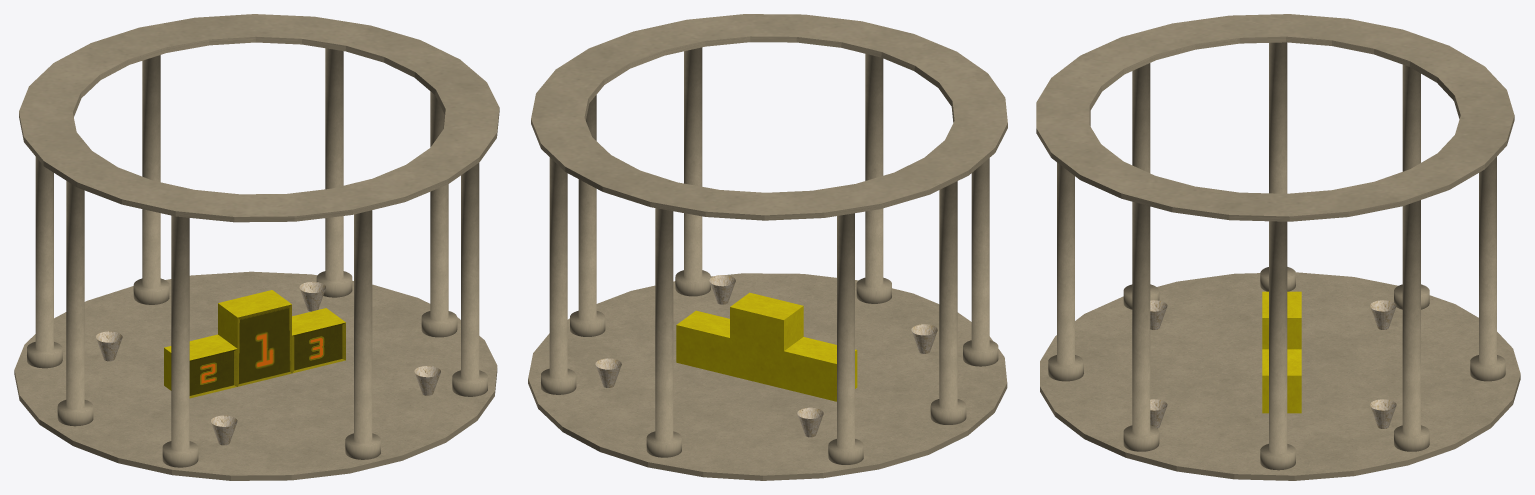
File: victoria.obj
3 views of the same model, side by side, from view 1: azimuth 30°, elevation 25°; view 2: azimuth 150°, elevation 25°; view 3: azimuth 270°, elevation 25° (orthographic).
Parts seen in each view (by area): view 1: abajo_abajoH, arriba_arribaH, Podio_PodioH, col3.006_col3H.006, col3.002_col3H.002, col3.001_col3H.001, col3.007_col3H.007, col3.003_col3H.003, col3.004_col3H.004, col3.005_col3H.005, col3_col3H, fuego.003_fuegoH.007 (+3 smaller); view 2: abajo_abajoH, arriba_arribaH, Podio_PodioH, col3.003_col3H.003, col3.001_col3H.001, col3.005_col3H.005, col3.004_col3H.004, col3.007_col3H.007, col3.002_col3H.002, col3.006_col3H.006, col3_col3H, fuego.003_fuegoH.007 (+3 smaller); view 3: abajo_abajoH, arriba_arribaH, col3_col3H, col3.004_col3H.004, col3.007_col3H.007, col3.003_col3H.003, col3.002_col3H.002, col3.001_col3H.001, Podio_PodioH, col3.006_col3H.006, col3.005_col3H.005, fuego.000_fuegoH.005 (+1 smaller).
Part boxes in pixels (x1,y1,x2,y2): abajo_abajoH: (14, 271, 497, 480); arriba_arribaH: (19, 14, 499, 222); Podio_PodioH: (164, 290, 345, 398); col3.006_col3H.006: (162, 215, 198, 467); col3.002_col3H.002: (345, 210, 380, 459); col3.001_col3H.001: (57, 181, 93, 426); col3.007_col3H.007: (452, 163, 487, 396); col3.003_col3H.003: (133, 55, 169, 304); col3.004_col3H.004: (316, 48, 352, 297); col3.005_col3H.005: (27, 157, 62, 368); col3_col3H: (421, 91, 457, 337); fuego.003_fuegoH.007: (211, 415, 237, 445); abajo_abajoH: (528, 273, 1007, 480); arriba_arribaH: (531, 14, 1007, 220); Podio_PodioH: (676, 292, 857, 401); col3.003_col3H.003: (646, 208, 681, 457); col3.001_col3H.001: (930, 181, 966, 424); col3.005_col3H.005: (828, 213, 863, 464); col3.004_col3H.004: (541, 157, 576, 394); col3.007_col3H.007: (675, 47, 710, 296); col3.002_col3H.002: (856, 54, 891, 303); col3.006_col3H.006: (963, 158, 998, 366); col3_col3H: (570, 95, 605, 336); fuego.003_fuegoH.007: (911, 324, 937, 353); abajo_abajoH: (1040, 272, 1520, 480); arriba_arribaH: (1036, 14, 1514, 221); col3_col3H: (1260, 221, 1295, 470); col3.004_col3H.004: (1394, 200, 1429, 451); col3.007_col3H.007: (1123, 201, 1159, 451); col3.003_col3H.003: (1470, 157, 1505, 381); col3.002_col3H.002: (1048, 162, 1083, 381); col3.001_col3H.001: (1260, 42, 1295, 291); Podio_PodioH: (1262, 291, 1301, 413); col3.006_col3H.006: (1123, 63, 1159, 309); col3.005_col3H.005: (1394, 64, 1429, 309); fuego.000_fuegoH.005: (1370, 399, 1396, 428).
Size of the model in its own units: 37.96 by 23.01 by 38.19.
